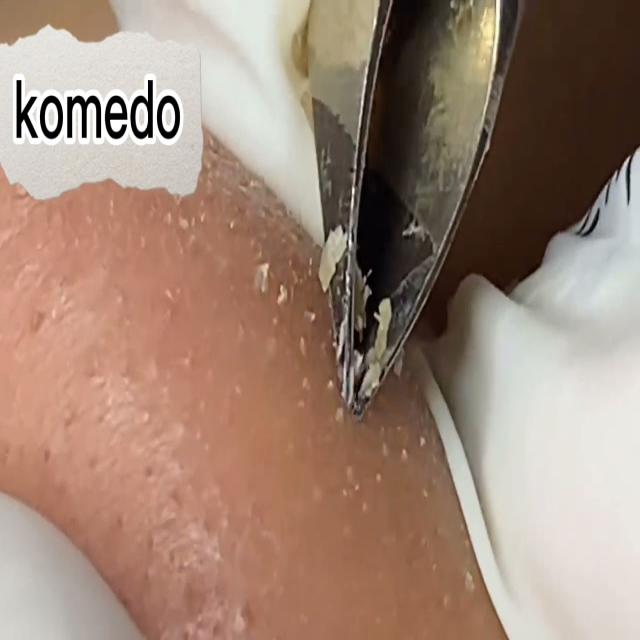Acne: (95, 136, 484, 603)
